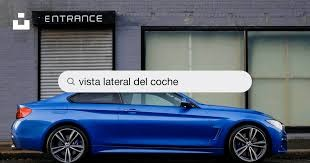car: (5, 78, 292, 162)
